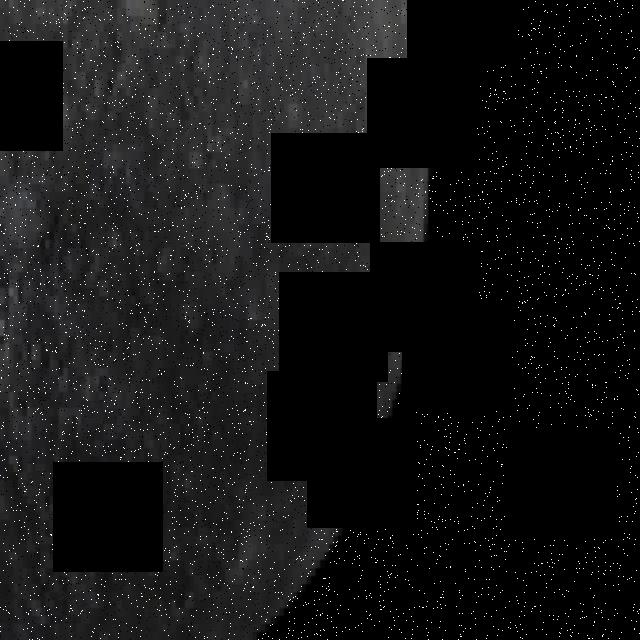Mercury: (0, 0, 432, 640)
